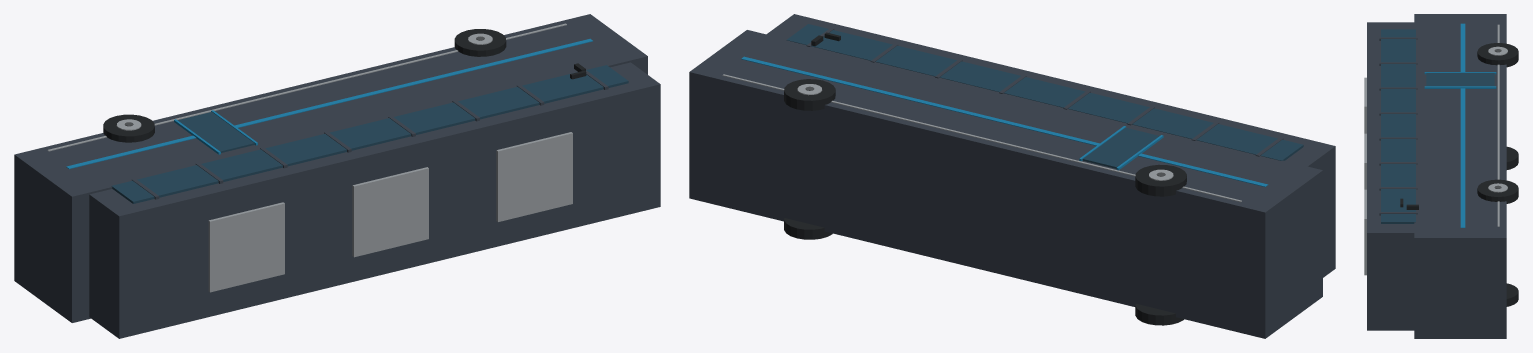
Rendered from RM_Bus_44.glb.
3 views of the same model, side by side, from view 1: azimuth 30°, elevation 25°; view 2: azimuth 150°, elevation 25°; view 3: azimuth 270°, elevation 25° (orthographic). The views are drawn at different scales.
Parts seen in each view (by area): view 1: part_001, part_000, part_002, part_037, part_039, part_038, part_013, part_040, part_014, part_024, part_030; view 2: part_000, part_002, part_001, part_013, part_040, part_024, part_030, part_014, part_021, part_027; view 3: part_000, part_001, part_002, part_013, part_040, part_030, part_024, part_014, part_039, part_027, part_021, part_042 (+4 smaller).
Part boxes in pixels (x1,y1,x2,y2): part_001: [89, 62, 660, 338]; part_000: [14, 14, 647, 322]; part_002: [111, 65, 628, 203]; part_037: [208, 202, 284, 292]; part_039: [496, 132, 572, 221]; part_038: [352, 167, 428, 257]; part_013: [66, 38, 592, 169]; part_040: [177, 112, 254, 152]; part_014: [47, 23, 566, 151]; part_024: [103, 114, 154, 142]; part_030: [454, 29, 506, 56]; part_000: [689, 30, 1322, 338]; part_002: [786, 24, 1303, 160]; part_001: [766, 14, 1335, 277]; part_013: [741, 56, 1268, 186]; part_040: [1082, 127, 1159, 168]; part_024: [1135, 164, 1186, 196]; part_030: [784, 79, 835, 110]; part_014: [722, 74, 1241, 202]; part_021: [1135, 303, 1183, 325]; part_027: [784, 218, 832, 239]; part_000: [1414, 14, 1506, 338]; part_001: [1367, 22, 1414, 330]; part_002: [1381, 29, 1415, 223]; part_013: [1460, 23, 1465, 227]; part_040: [1426, 73, 1494, 86]; part_030: [1477, 179, 1518, 203]; part_024: [1477, 43, 1518, 67]; part_014: [1497, 24, 1499, 226]; part_039: [1364, 189, 1366, 275]; part_027: [1506, 283, 1518, 306]; part_021: [1506, 146, 1518, 169]; part_042: [1424, 86, 1496, 88].
Bounding box in the file's own units: 12.06 × 2.85 × 3.51.
